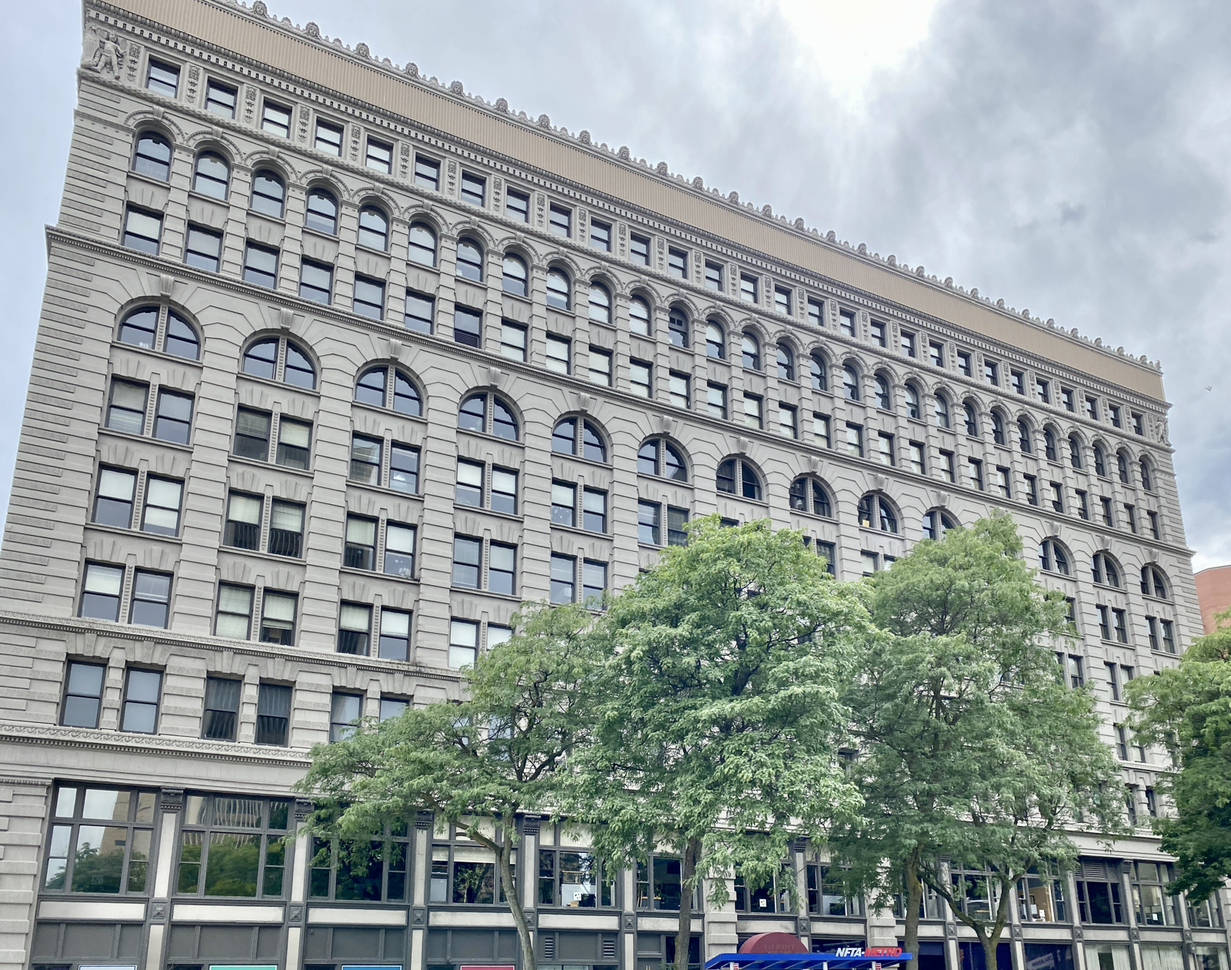fachada: (8, 3, 1226, 970)
